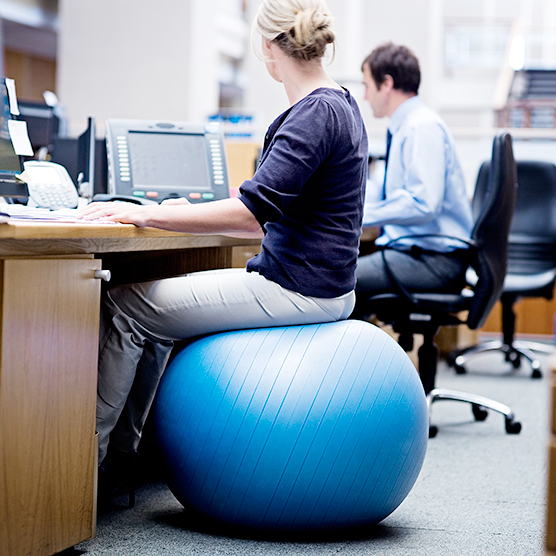yogaball: (157, 319, 437, 547)
